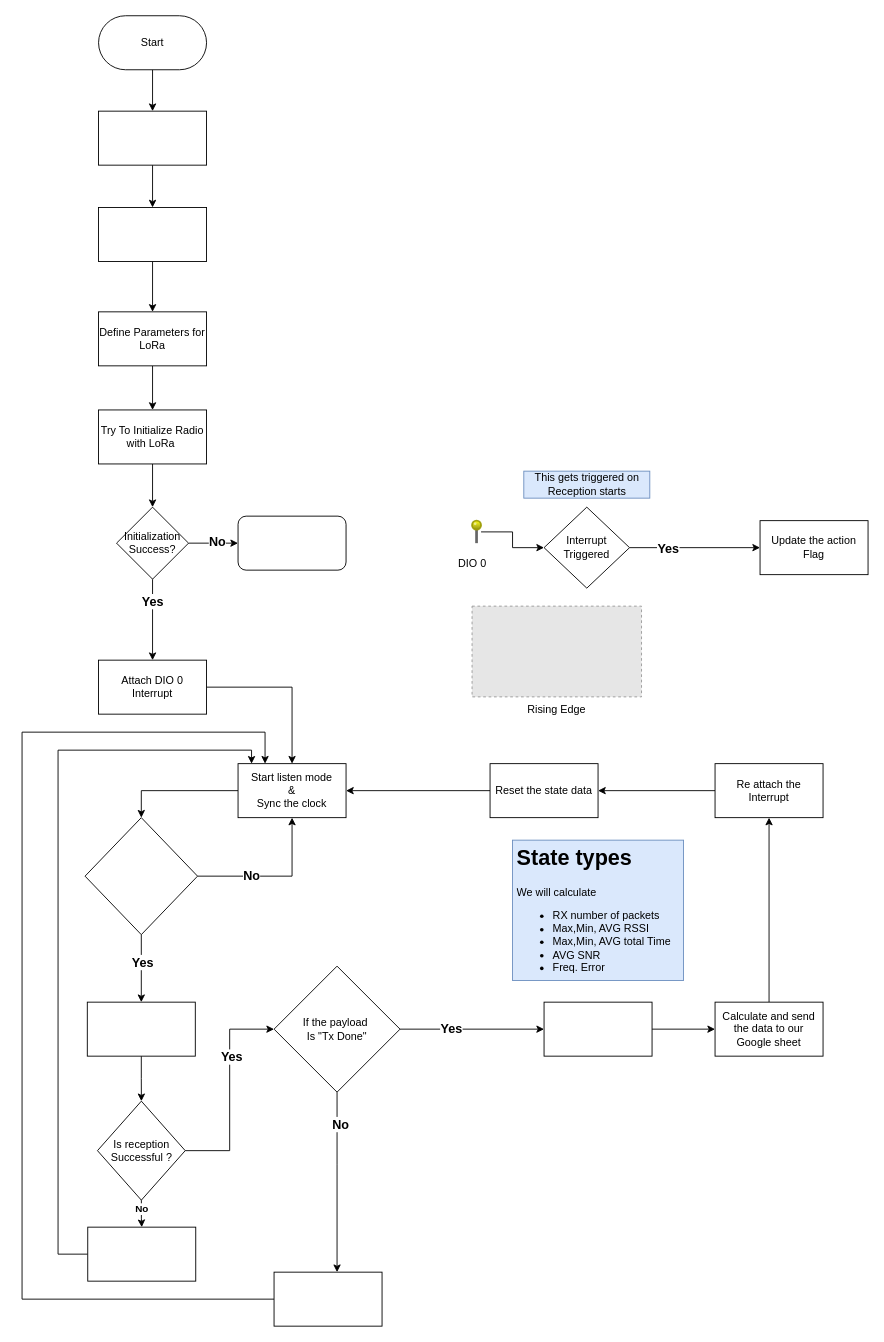
Image size: 884x1342. Some labels were removed from this diagram. Grey dashed boxes stand in for pictures. The box of each missing label's shape, as (x1, y1, x2, y2) in pixels:
Action flag Triggered?: (84, 817, 198, 935)
Connect to WiFi with given SSID and Password: (98, 207, 207, 261)
END: (237, 515, 346, 570)
Get the Payload String: (86, 1001, 195, 1056)
Initialize Board/ OLED/ Clock: (98, 110, 207, 165)
Log the error: (87, 1226, 196, 1281)
Remove the Interrupt: (543, 1001, 652, 1056)
Update the state data: (273, 1271, 382, 1326)
